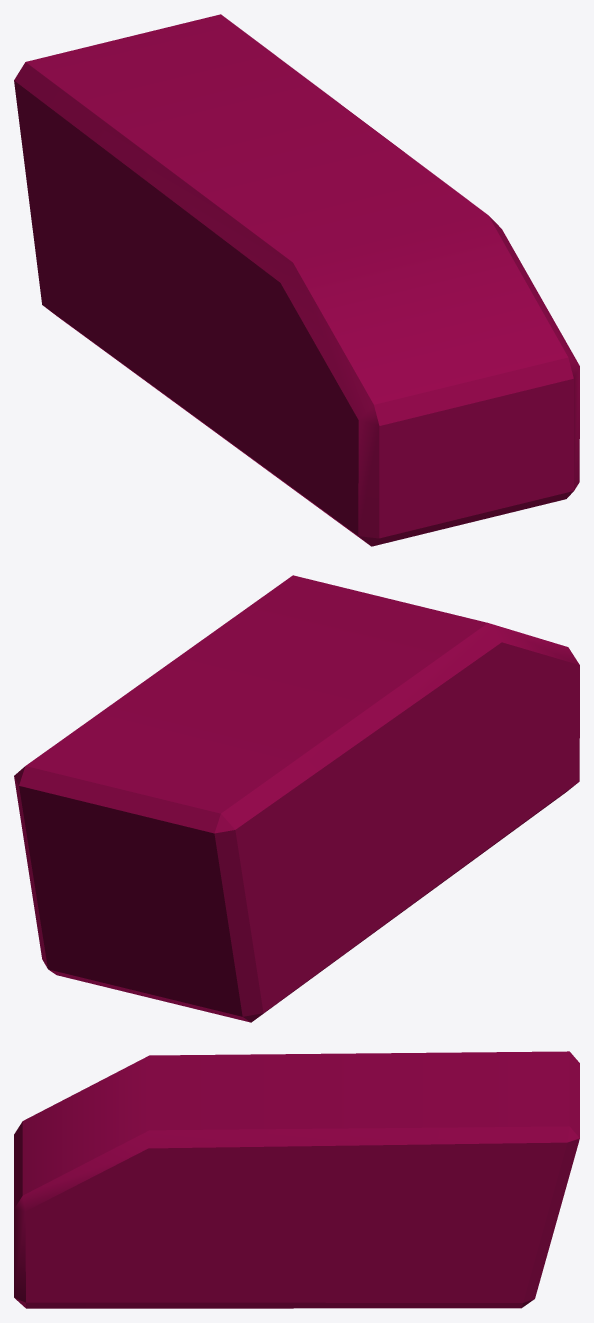
File: Rubber.fbx
3 renders of one model, top to bottom at view 1: azimuth 30°, elevation 25°; view 2: azimuth 150°, elevation 25°; view 3: azimuth 270°, elevation 25°, orthographic. The views are drawn at different scales.
Visible parts, largest first — view 1: Rubber; view 2: Rubber; view 3: Rubber.
Boxes of the visible parts, x1,y1,x2,y2 form: Rubber: (14,14,579,546); Rubber: (14,575,579,1022); Rubber: (14,1051,579,1308).
Bounding box in the file's own units: 10.14 × 10.14 × 28.55.
